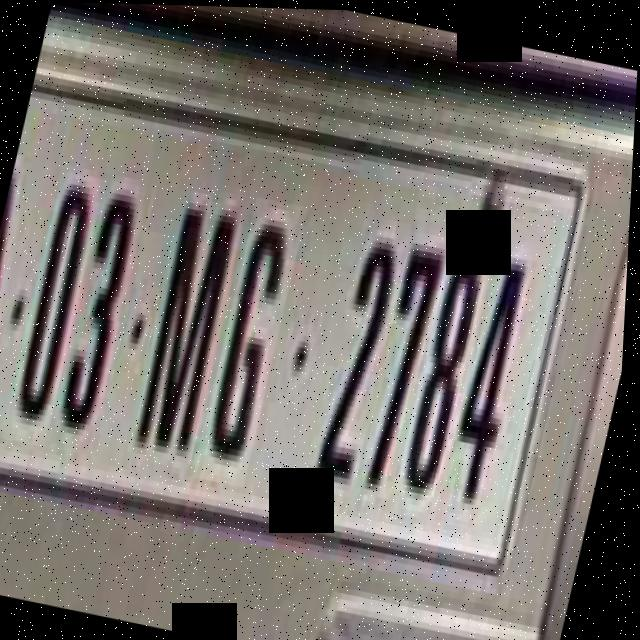0: (5, 170, 107, 447)
3: (53, 185, 149, 451)
7: (355, 221, 454, 504)
8: (441, 248, 540, 525), (398, 226, 495, 496)
G: (196, 194, 309, 487)
M: (125, 183, 258, 480)
